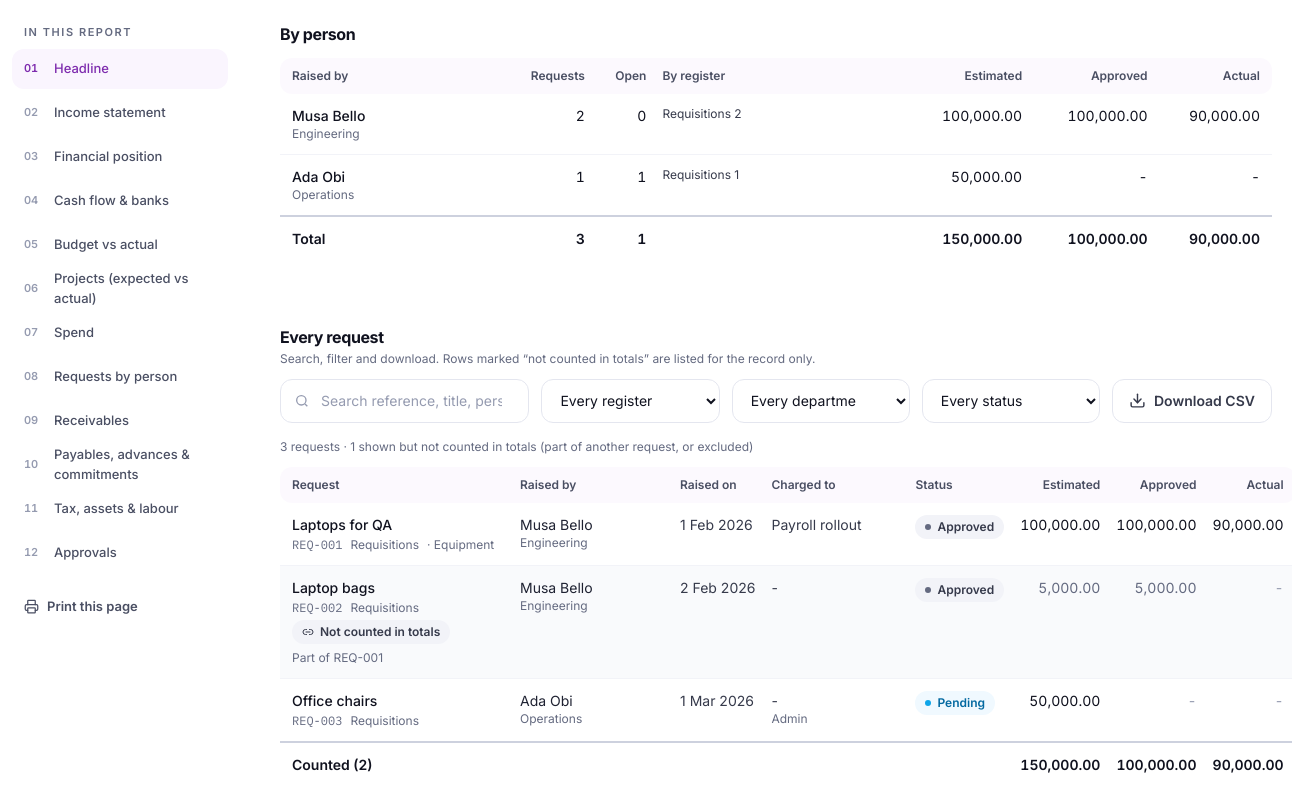
Test case: Company report › filters the request register by department
(page scrolled)
Select "Operations" in the 2nd dropdown named "Department" at coordinates (821, 401), box [732, 379, 910, 423]
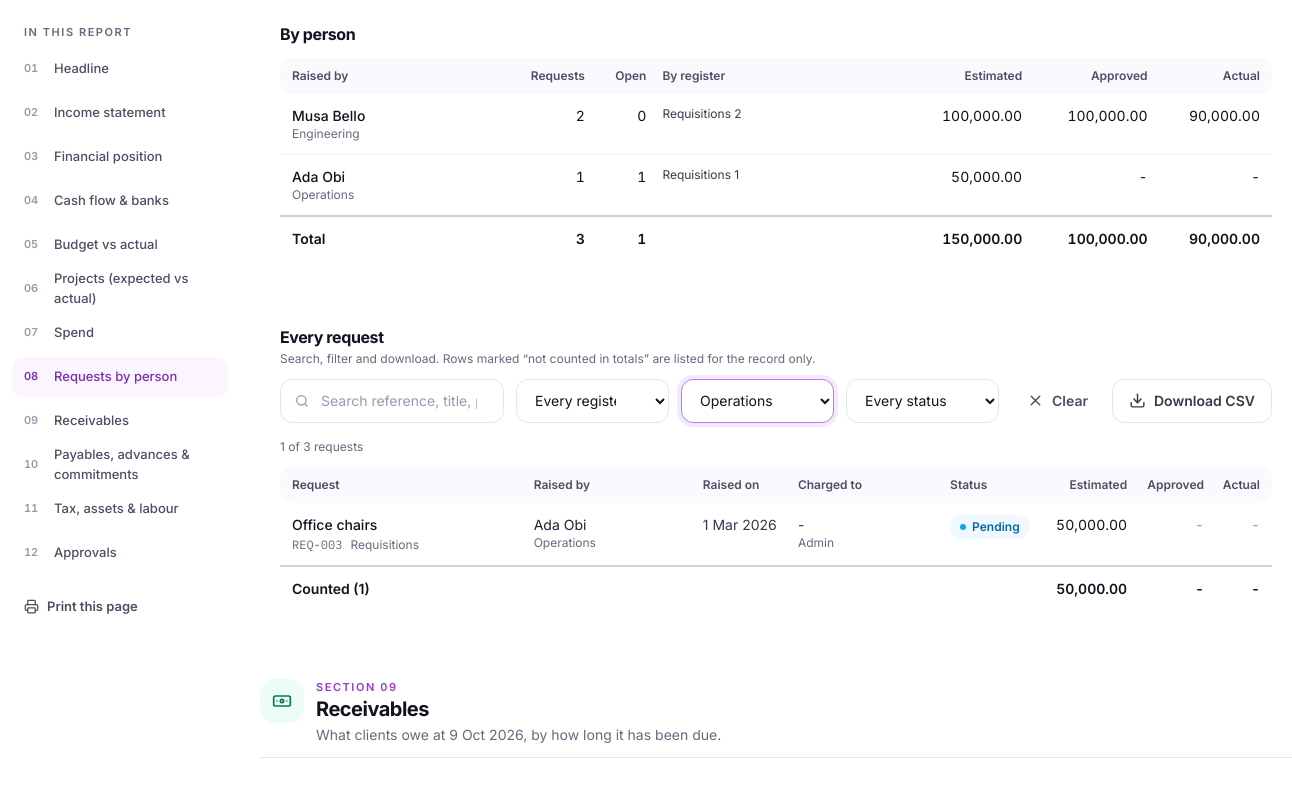
Check: the text "Office chairs" is shown, box [292, 516, 377, 533]
Check: the text "Laptops for QA" is gone
